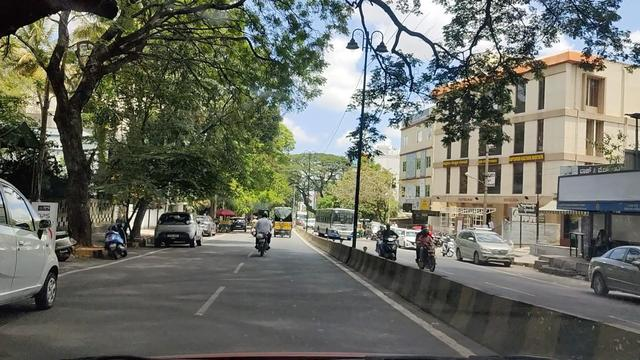LMV: (159, 219, 194, 247), (254, 212, 275, 256)
